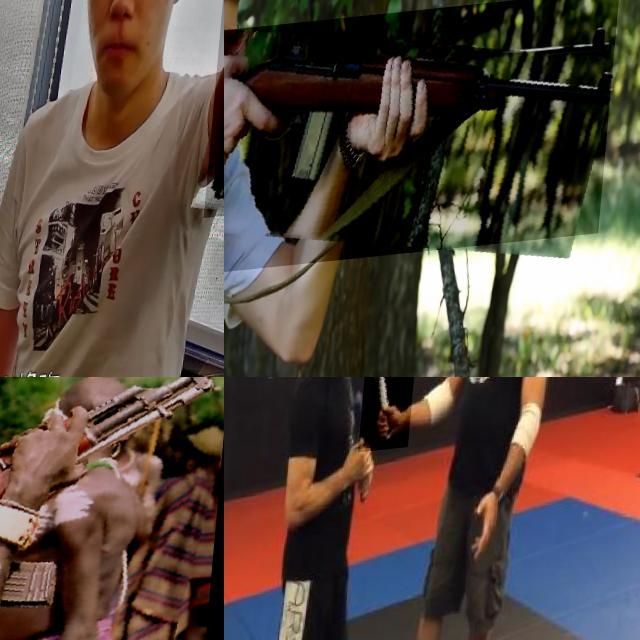-: (364, 377, 419, 459)
gun-knife-thesis - v11 Yolov5 augmented: (224, 1, 623, 289), (0, 377, 224, 640)
